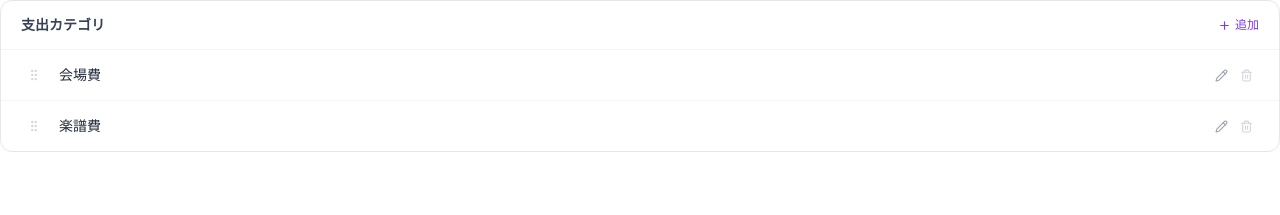
Scenario: ExpenseCategoryCard（編集・削除） › 名前の保存に失敗したら入力欄の下に理由を出し、ほかの場所には出さない
Click the button named "会場費を編集" at (1222, 75), box [1211,64,1232,86]
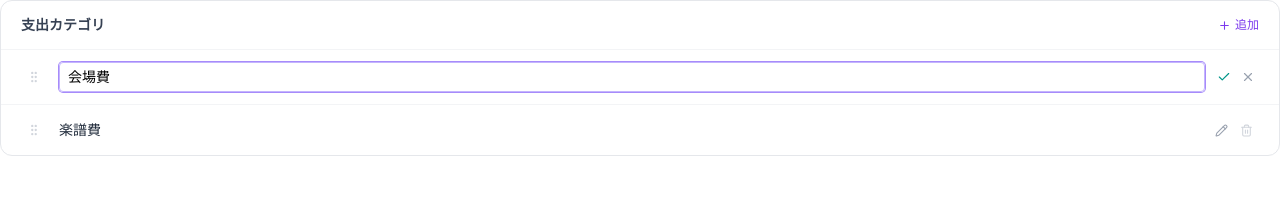
Type "改" into the field named "カテゴリ名" at (632, 77), box [59,62,1205,92]
Then press Enter
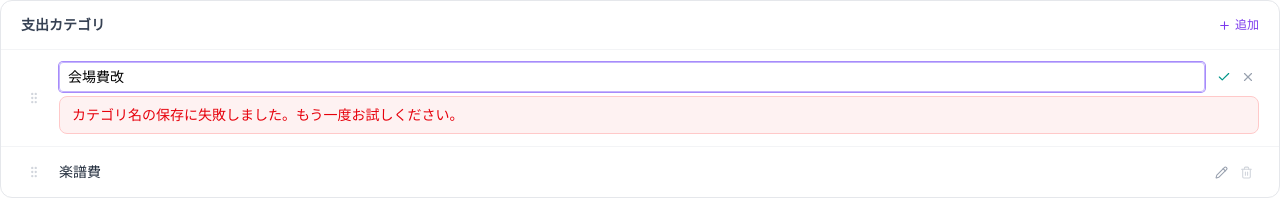
Check: the message reads "カテゴリ名の保存に失敗しました。もう一度お試しください。", box [72,106,464,123]
Check: the number of messages is 1, box [59,96,1259,134]
